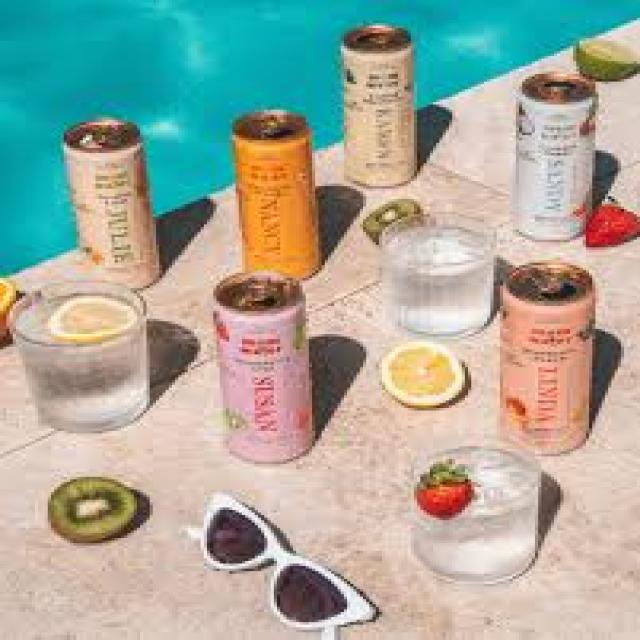Cans: (201, 265, 328, 462), (490, 263, 605, 457), (54, 115, 169, 293), (229, 97, 331, 280), (510, 66, 608, 240), (334, 15, 433, 186)
